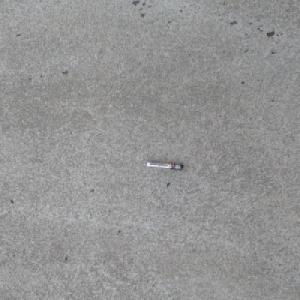Battery: (146, 162, 185, 170)
